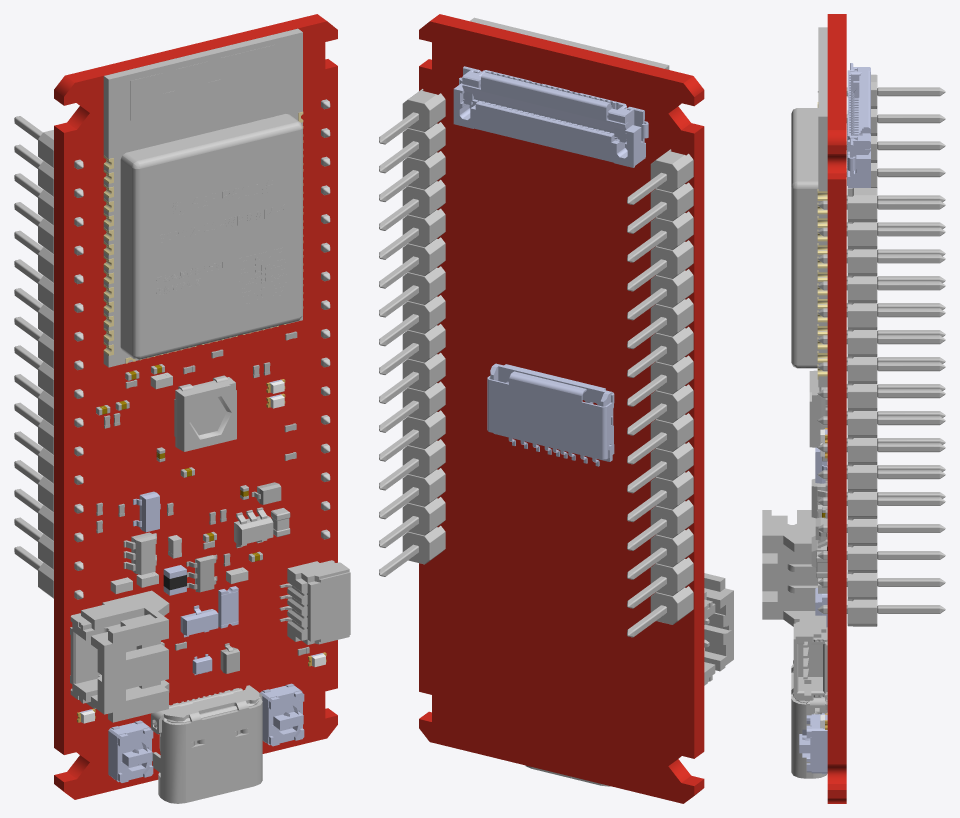
Rendered from deneyap-1a-v2-renkli.glb.
3 views of the same model, side by side, from view 1: azimuth 30°, elevation 25°; view 2: azimuth 150°, elevation 25°; view 3: azimuth 270°, elevation 25° (orthographic). The views are drawn at different scales.
Parts seen in each view (by area): view 1: PCB, p10, p91, p104, p106, p9, p250, 1-6.step (×2), 1.step (×2), CircuitWorks-SOT-23.step (×2), p75, p374 (+4 smaller); view 2: PCB, 52892-2495.step, Open CASCADE STEP translator 6.2 3.7.1.1.step, p104, p150, p198, p219, p237, p153, p159, p162, p165 (+25 smaller); view 3: PCB, p10, p104, 52892-2495.step, p9, p91, p106, 1-6.step, p198, p250, p243, p207 (+46 smaller).
Part boxes in pixels (x1=…): PCB: x1=54, y1=14, x2=337, y2=799; p10: x1=120, y1=114, x2=302, y2=359; p91: x1=103, y1=28, x2=302, y2=367; p104: x1=70, y1=590, x2=169, y2=722; p106: x1=151, y1=685, x2=262, y2=803; p9: x1=287, y1=560, x2=350, y2=644; p250: x1=174, y1=377, x2=236, y2=451; 1-6.step (×2): x1=108, y1=683, x2=304, y2=782; 1.step (×2): x1=117, y1=692, x2=302, y2=780; CircuitWorks-SOT-23.step (×2): x1=133, y1=491, x2=218, y2=637; p75: x1=246, y1=251, x2=286, y2=302; p374: x1=131, y1=532, x2=155, y2=574; PCB: x1=419, y1=14, x2=704, y2=803; 52892-2495.step: x1=453, y1=66, x2=648, y2=167; Open CASCADE STEP translator 6.2 3.7.1.1.step: x1=487, y1=363, x2=614, y2=466; p104: x1=704, y1=573, x2=733, y2=680; p150: x1=650, y1=149, x2=693, y2=192; p198: x1=402, y1=89, x2=445, y2=131; p219: x1=402, y1=295, x2=445, y2=333; p237: x1=402, y1=468, x2=445, y2=506; p153: x1=650, y1=182, x2=693, y2=221; p159: x1=650, y1=240, x2=693, y2=278; p162: x1=650, y1=269, x2=693, y2=307; p165: x1=650, y1=298, x2=693, y2=336; PCB: x1=827, y1=14, x2=846, y2=803; p10: x1=791, y1=108, x2=818, y2=368; p104: x1=762, y1=510, x2=817, y2=626; 52892-2495.step: x1=847, y1=63, x2=870, y2=188; p9: x1=793, y1=615, x2=827, y2=700; p91: x1=818, y1=27, x2=827, y2=387; p106: x1=791, y1=660, x2=827, y2=778; 1-6.step: x1=806, y1=713, x2=827, y2=774; p198: x1=847, y1=188, x2=877, y2=222; p250: x1=809, y1=370, x2=827, y2=447; p243: x1=847, y1=599, x2=877, y2=626; p207: x1=847, y1=275, x2=877, y2=303.
Bounding box in the file's own units: 25.4 × 64.5 × 15.65.
